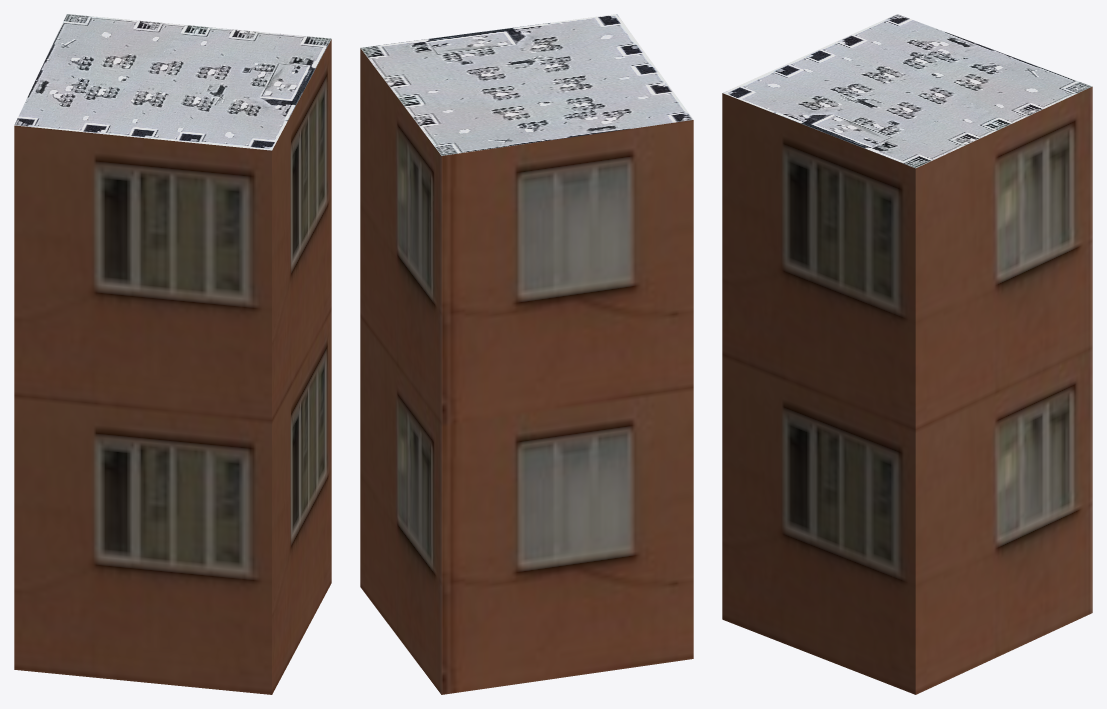
File: ResTex__4111.fbx
3 renders of one model, left to right at view 1: azimuth 30°, elevation 25°; view 2: azimuth 150°, elevation 25°; view 3: azimuth 270°, elevation 25°, orthographic. The views are drawn at different scales.
Visible parts, largest first — view 1: CityEngineMaterial_20_m, CityEngineMaterial_m; view 2: CityEngineMaterial_20_m, CityEngineMaterial_m; view 3: CityEngineMaterial_20_m, CityEngineMaterial_m.
Boxes of the visible parts, x1=… form: CityEngineMaterial_20_m: x1=14, y1=39, x2=331, y2=694; CityEngineMaterial_m: x1=14, y1=14, x2=331, y2=150; CityEngineMaterial_20_m: x1=360, y1=48, x2=693, y2=694; CityEngineMaterial_m: x1=360, y1=14, x2=693, y2=155; CityEngineMaterial_20_m: x1=722, y1=86, x2=1092, y2=694; CityEngineMaterial_m: x1=723, y1=14, x2=1091, y2=168.
Size of the model in its own units: 3.78 by 6 by 3.82.
Materials: 2 (2 with a texture image).
